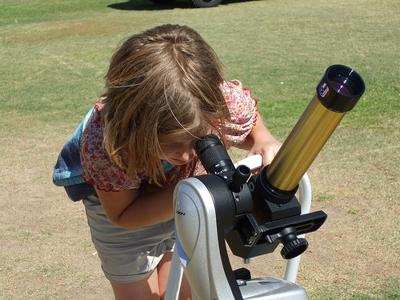person: (61, 25, 284, 299)
